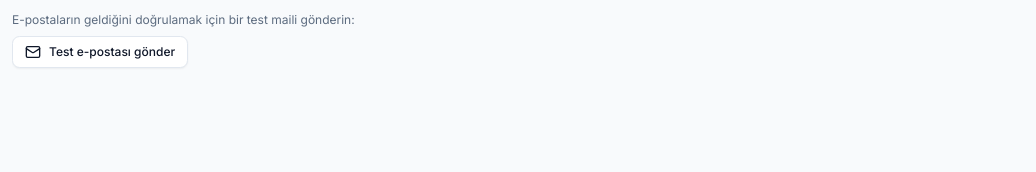
Test: TestEmailButton (UI) › başarılı gönderimde buton kaybolur, onay satırı kalır, bayrak yazılır
Step 1. Click the button "Test e-postası gönder" → (100, 52), box [12,36,188,68]
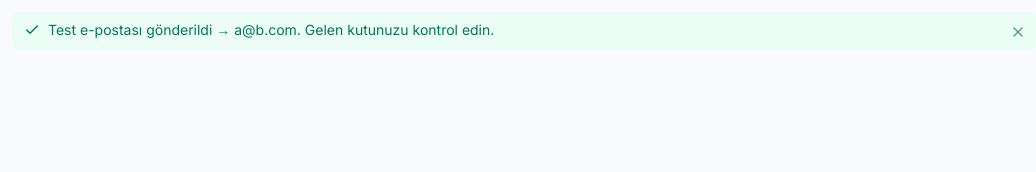
expect the text "Gelen kutunuzu kontrol edin." is shown: met, box [48,21,494,38]
